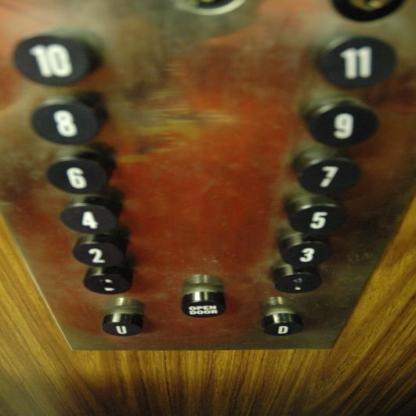10: (8, 29, 102, 88)
11: (312, 32, 399, 88)
2: (66, 234, 128, 268)
3: (275, 234, 329, 266)
4: (53, 196, 122, 234)
5: (281, 196, 345, 235)
6: (42, 151, 116, 194)
7: (291, 153, 361, 196)
8: (23, 96, 107, 146)
9: (298, 96, 378, 148)
D: (257, 310, 305, 338)
U: (95, 311, 149, 339)
blur: (266, 266, 326, 295), (79, 266, 133, 295)
text_open hold: (178, 288, 229, 320)
